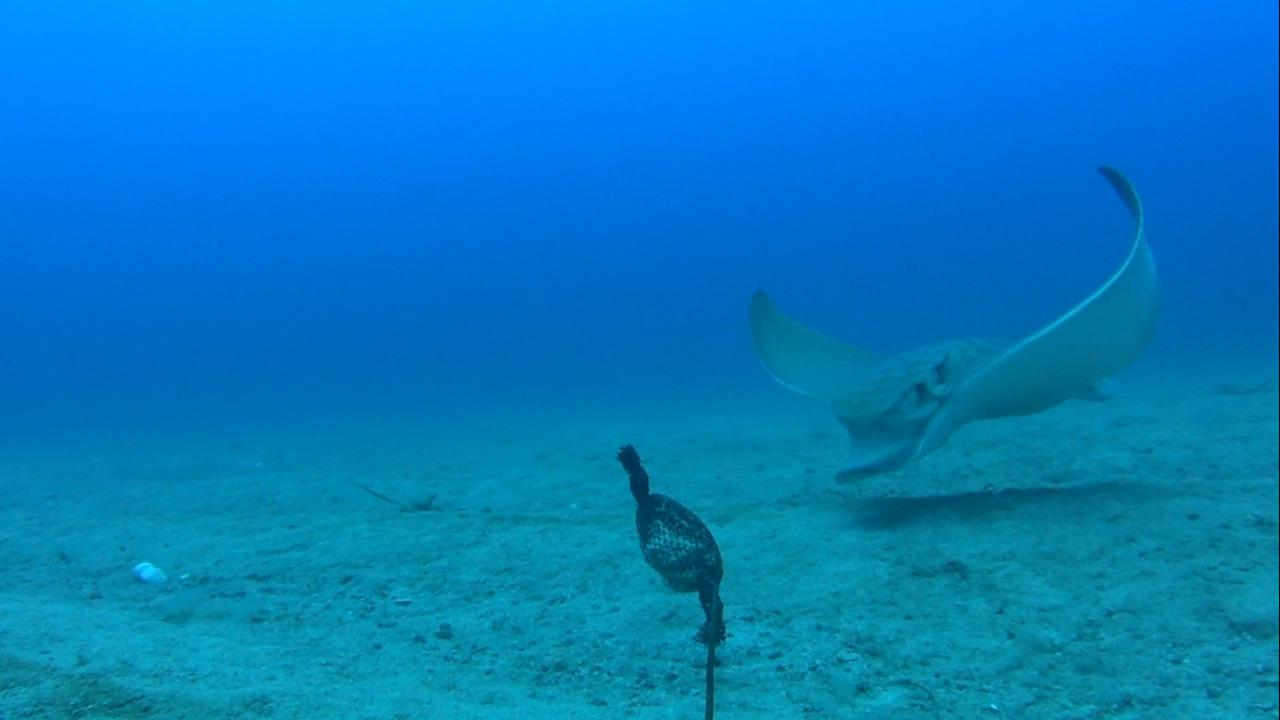myliobatis: (743, 158, 1172, 489)
